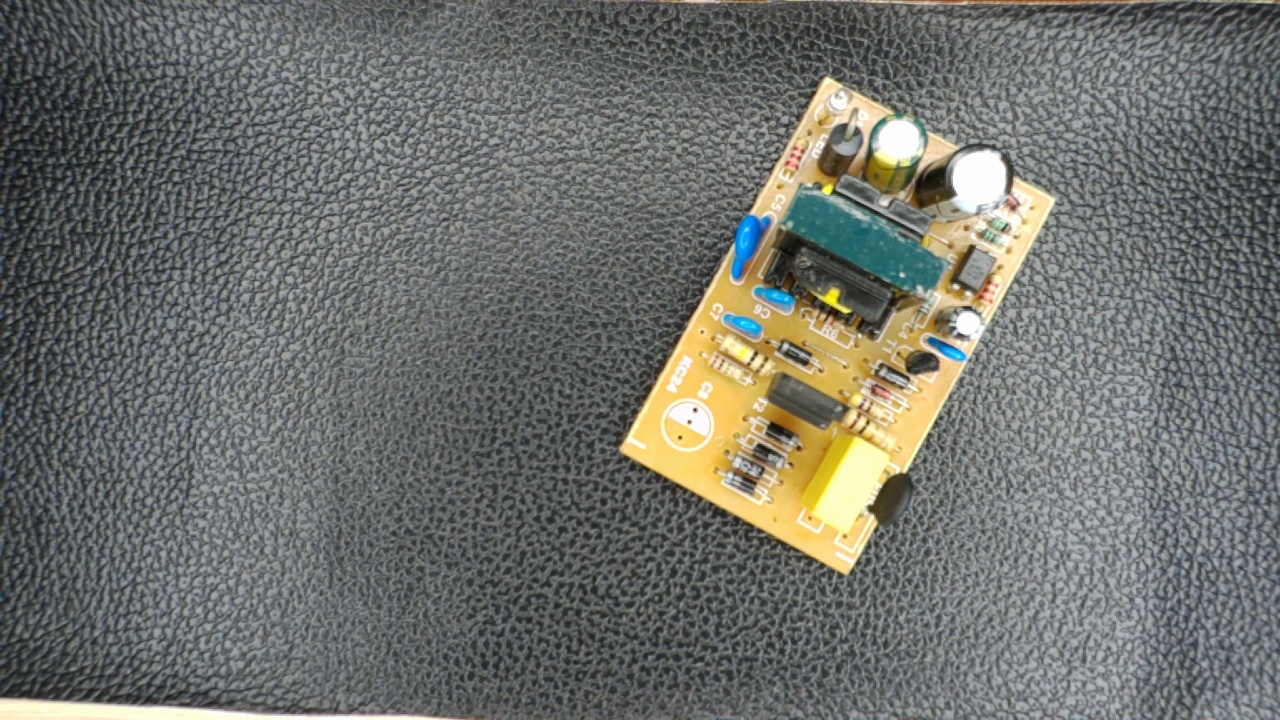fuse: (860, 462, 917, 533)
mov: (725, 210, 777, 288)
optocoupler: (948, 240, 999, 300)
